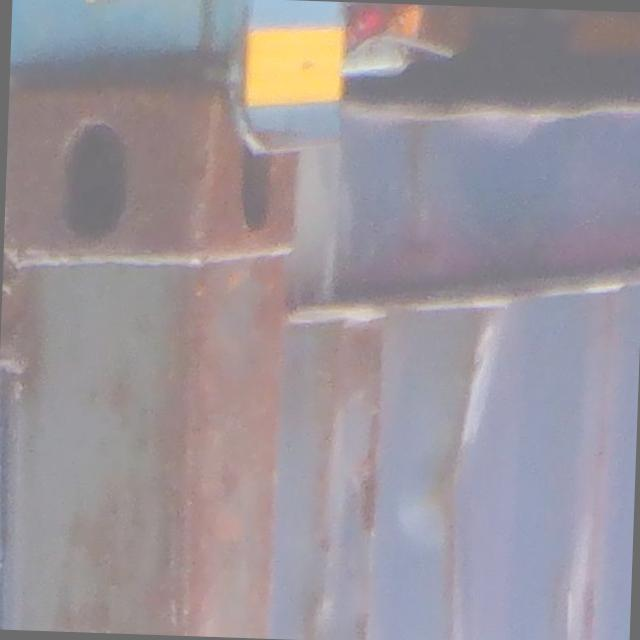rust: (274, 300, 562, 640)
